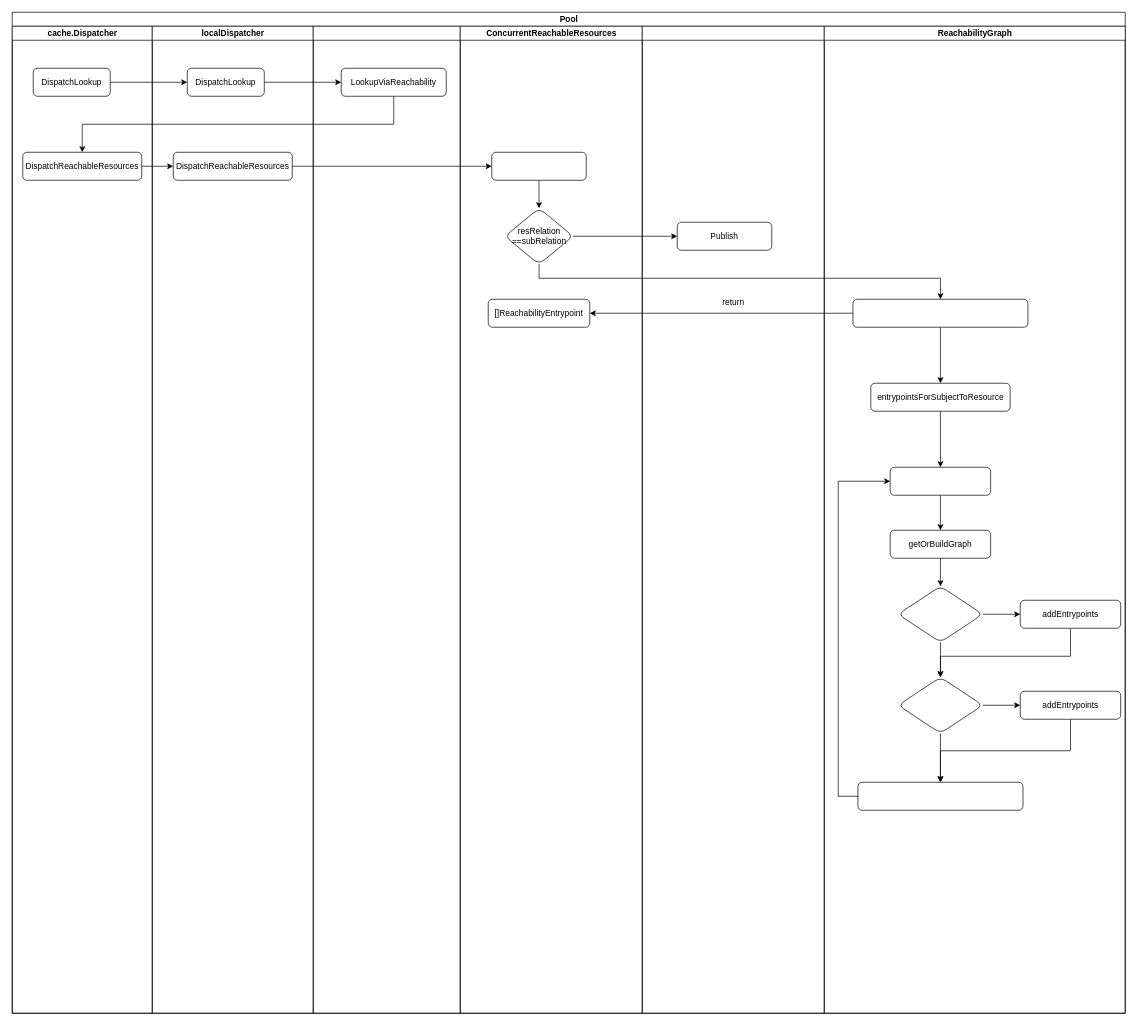
Some shapes in this 1138 by 1026 pixel diagram are drawn without their labels. The shapes that lost their labels are listed below. From the top down, each one's box as (x1, y1, x2, y2) in pixels, then its label:
(491, 152, 586, 180): ReachableResources
(852, 299, 1028, 327): OptimizedEntrypointsForSubjectToResource
(889, 467, 991, 495): collectEntrypoints
(313, 26, 460, 1013): ConcurrentLookup
(642, 26, 824, 1013): ReachableResourcesStream
(897, 586, 983, 642): rrg.Entrypoints BySubjectType
(897, 677, 983, 733): rrg.Entrypoints BySubjectRelation
(857, 782, 1023, 810): 遍历 rrg.EntrypointsBySubjectRelation
